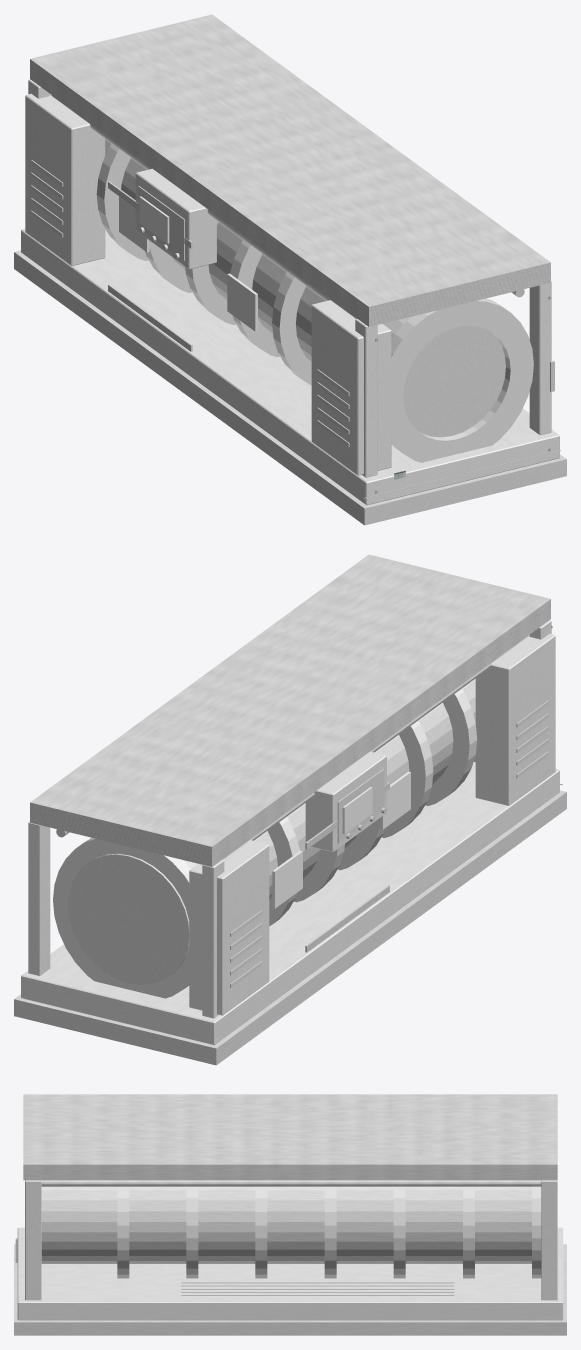
The model's file is fusionmatterreactor.obj.
3 renders of one model, top to bottom at view 1: azimuth 30°, elevation 25°; view 2: azimuth 150°, elevation 25°; view 3: azimuth 270°, elevation 25°, orthographic. The views are drawn at different scales.
Parts seen in each view (by area): view 1: Trim, Case, Black, Coils, Glass, Display; view 2: Trim, Case, Black, Coils, Glass, Display; view 3: Trim, Black, Case, Coils.
Part boxes in pixels (x1,y1,x2,y2): Trim: [30, 14, 560, 498]; Case: [21, 79, 559, 505]; Black: [14, 138, 566, 525]; Coils: [96, 143, 533, 462]; Glass: [119, 196, 257, 331]; Display: [139, 196, 169, 243]; Trim: [30, 554, 562, 952]; Case: [21, 620, 559, 1045]; Black: [14, 678, 566, 1065]; Coils: [53, 688, 477, 998]; Glass: [272, 771, 410, 908]; Display: [342, 787, 372, 834]; Trim: [15, 1094, 557, 1313]; Black: [14, 1186, 566, 1335]; Case: [17, 1180, 563, 1320]; Coils: [117, 1186, 541, 1278].
Size of the model in its own units: 2.04 by 2 by 6.
